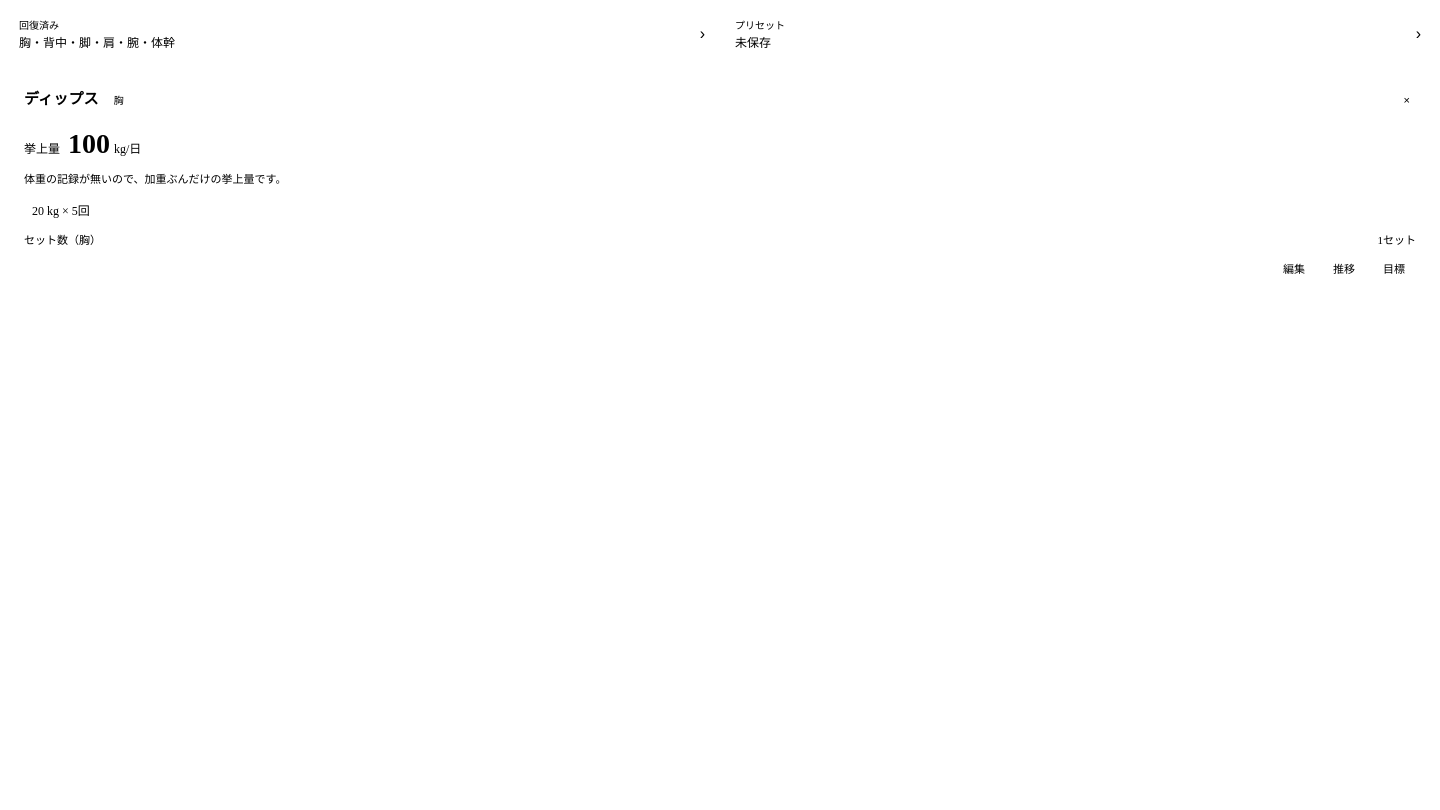
Test case: トレ画面 › 加重の記録がある日は、重量欄を畳まない
What coordinates should you click on to do the following:
click the button "編集"
I would click on:
 (1294, 268)
Its box is [1272, 255, 1316, 281].
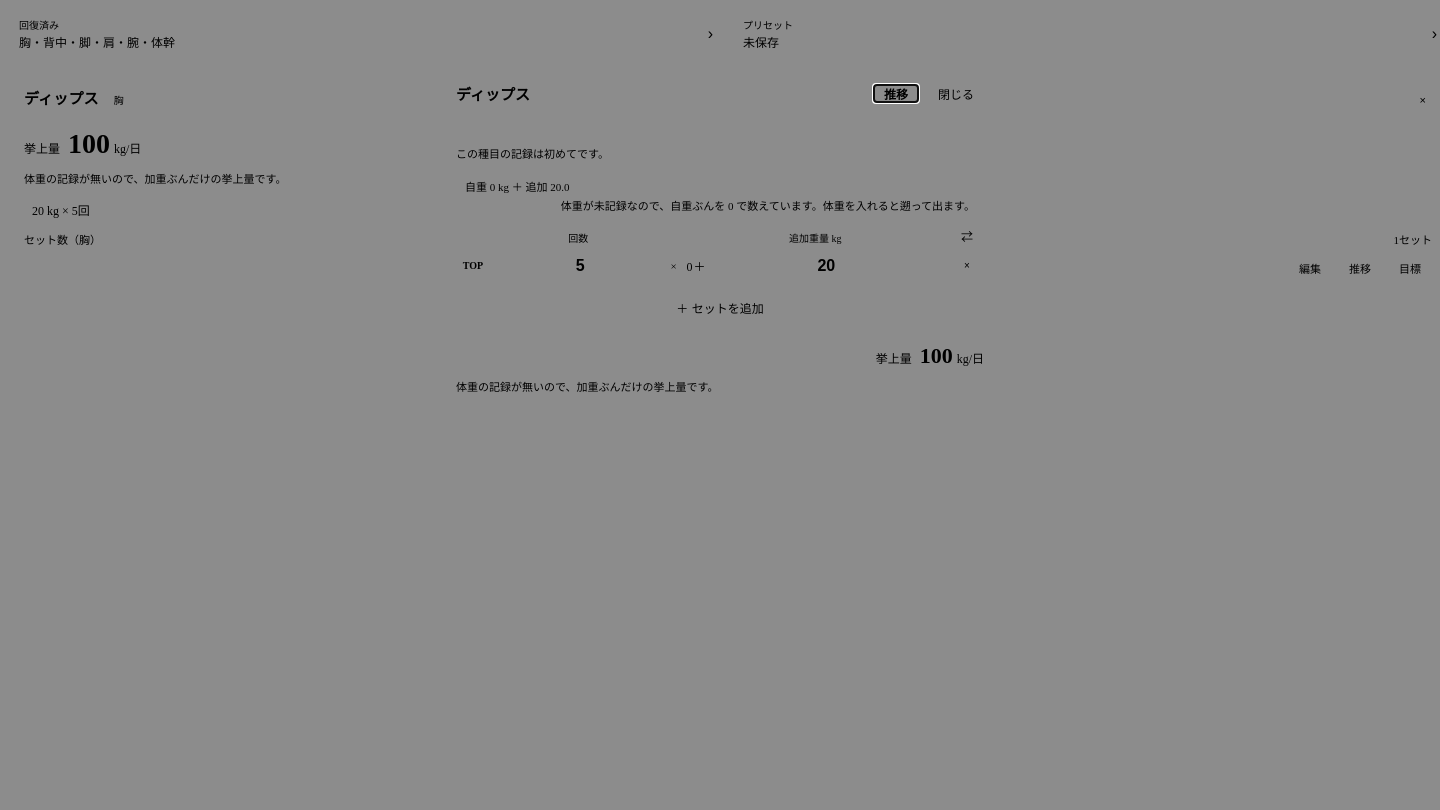
Expected: the number field named "1セット目の追加重量" holds "20", [709, 249, 944, 283]
